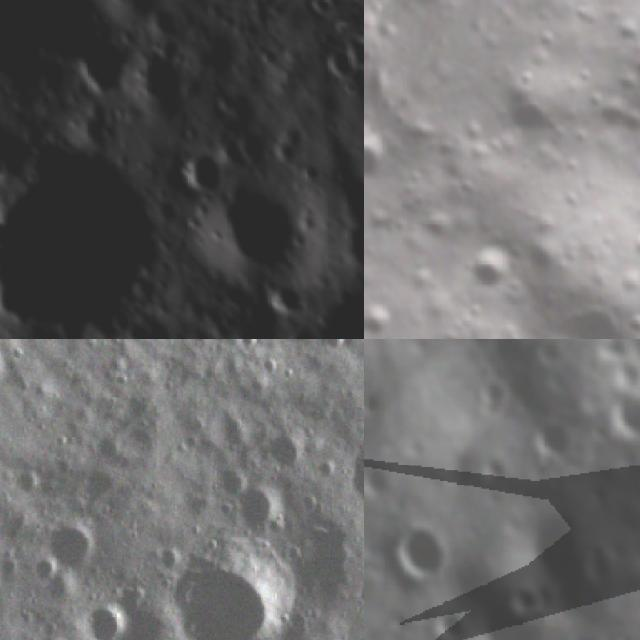crater: (0, 96, 216, 339), (163, 152, 330, 316), (0, 0, 109, 119), (104, 26, 211, 134), (174, 552, 275, 640), (522, 267, 640, 339), (454, 233, 531, 308), (496, 86, 564, 155), (173, 141, 236, 206), (394, 516, 452, 586), (224, 474, 284, 535), (314, 35, 364, 92), (49, 522, 102, 572), (364, 126, 400, 195), (602, 384, 640, 444), (532, 417, 575, 469), (261, 422, 303, 470), (469, 364, 509, 413), (364, 292, 405, 339), (341, 437, 364, 520), (85, 598, 125, 640), (3, 464, 45, 503), (432, 601, 472, 640), (364, 458, 399, 498), (34, 553, 68, 582), (364, 383, 385, 419), (0, 139, 13, 185), (352, 339, 364, 380)
